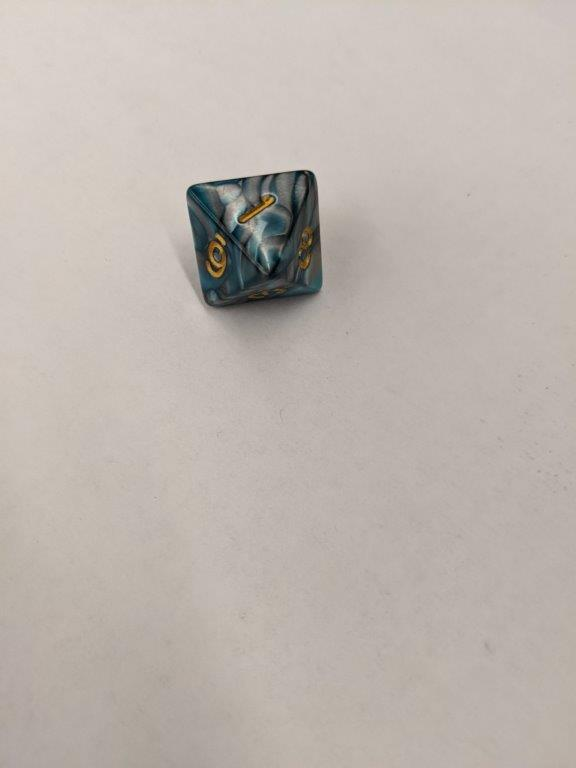d8-1: (187, 166, 326, 308)
